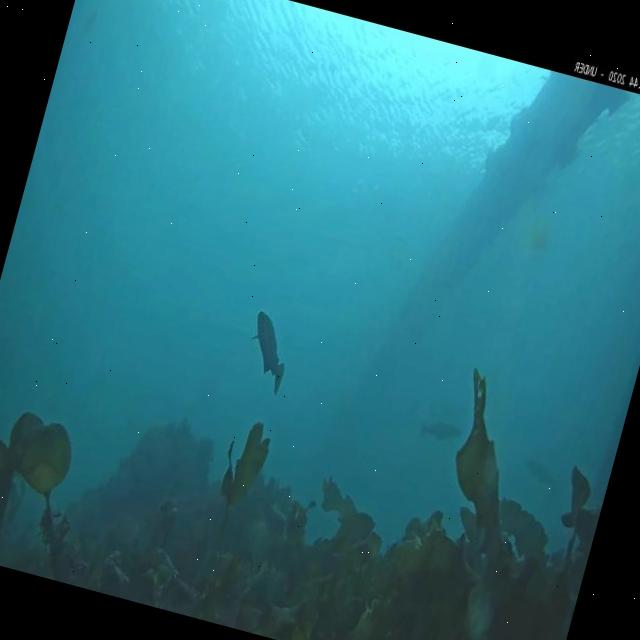fish: (237, 308, 300, 399), (418, 414, 464, 450)
